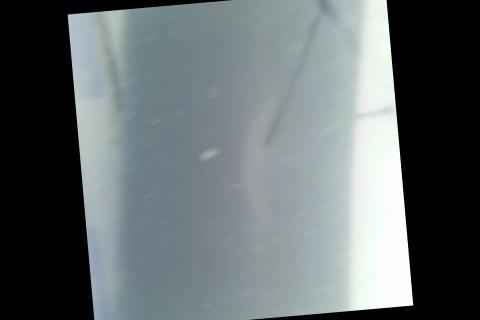keretakan: (240, 0, 379, 151)
